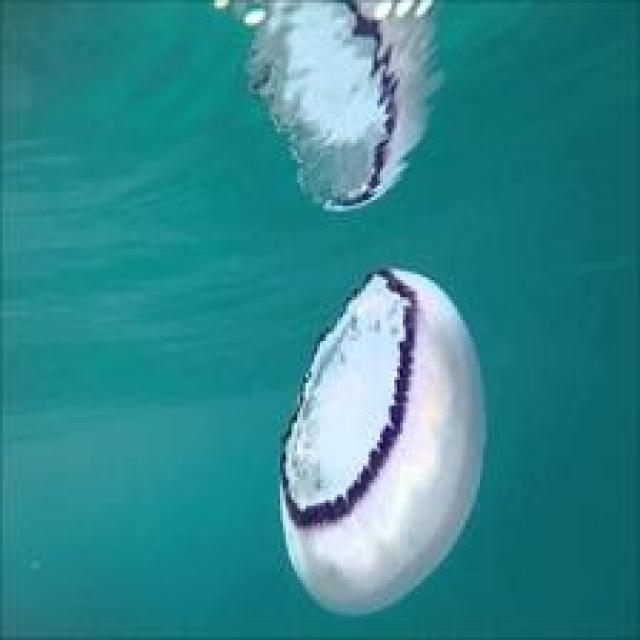Jellyfish: (277, 266, 486, 617), (253, 0, 437, 214)
